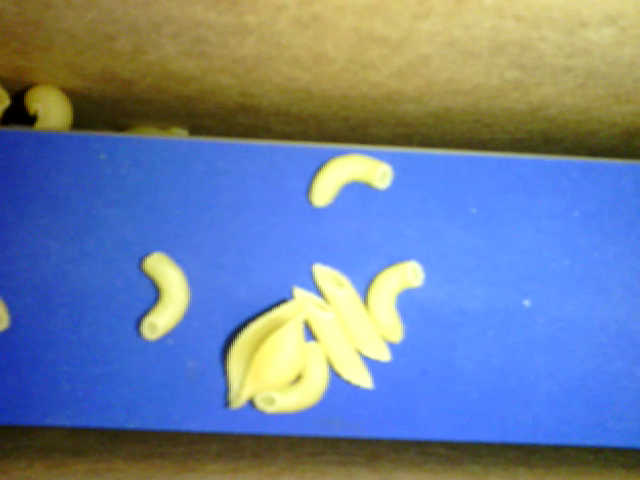elbow: (251, 335, 328, 414), (367, 258, 425, 344), (307, 154, 395, 208), (139, 249, 188, 342)
penne: (295, 286, 377, 393), (309, 261, 390, 361)
shell: (222, 294, 302, 412), (22, 80, 75, 132)
